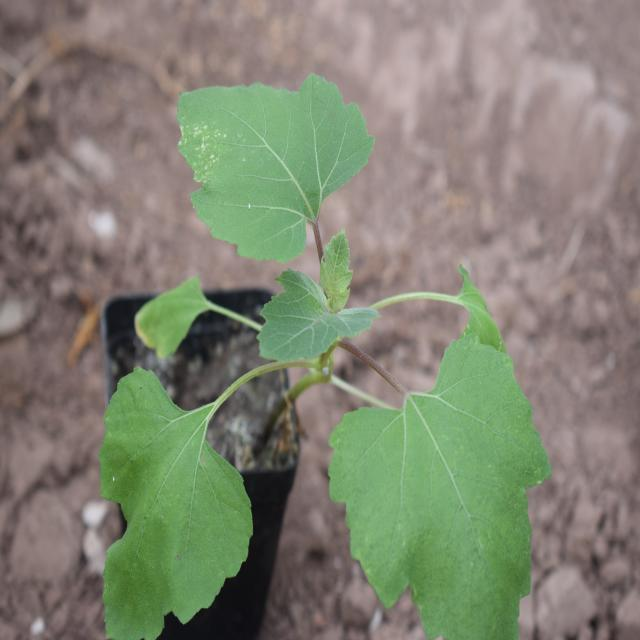cocklebur: (98, 68, 530, 635)
